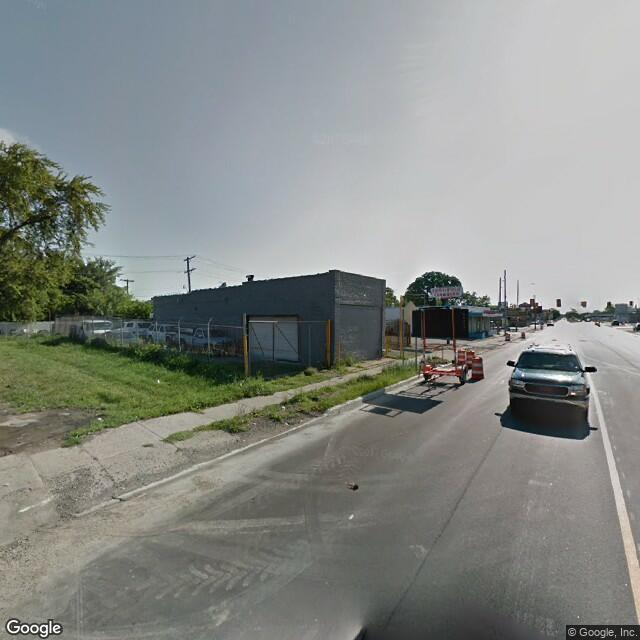litter: (150, 374, 167, 387), (275, 401, 291, 413), (93, 414, 108, 422), (234, 380, 248, 388)
